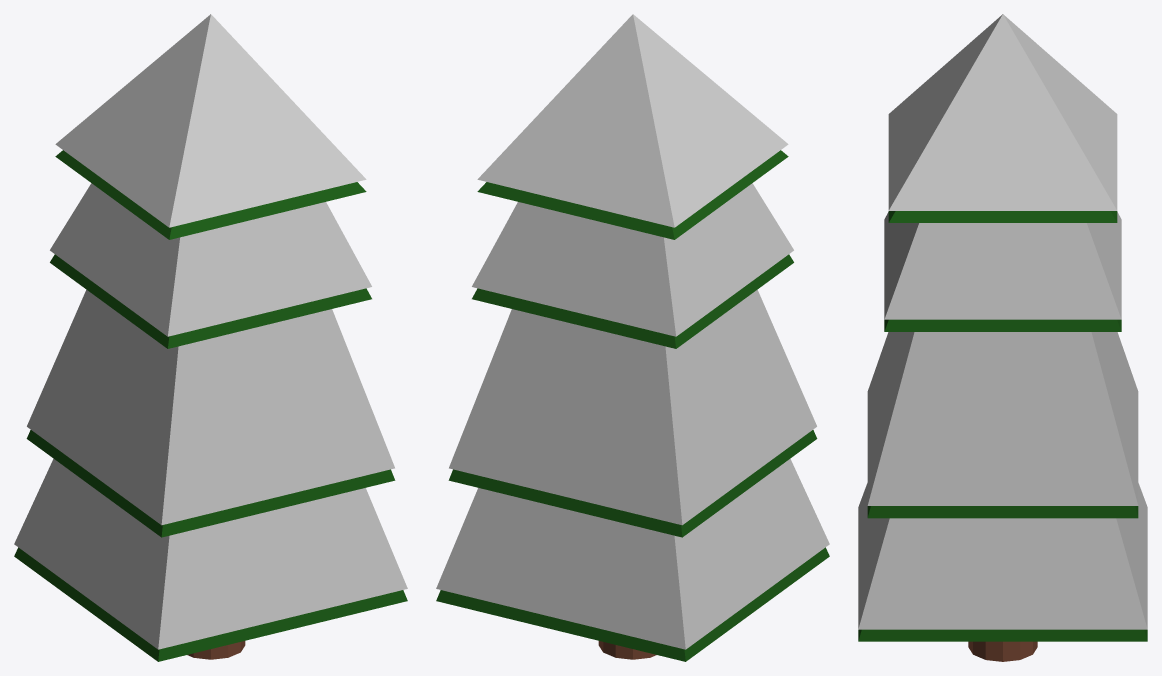
Rendered from Tree_17_winter_vc.fbx.
3 renders of one model, left to right at view 1: azimuth 30°, elevation 25°; view 2: azimuth 150°, elevation 25°; view 3: azimuth 270°, elevation 25°, orthographic.
Visible parts, largest first — view 1: Tree_17_winter_vc; view 2: Tree_17_winter_vc; view 3: Tree_17_winter_vc.
Part boxes in pixels (x1=…): Tree_17_winter_vc: x1=14, y1=14, x2=407, y2=661; Tree_17_winter_vc: x1=436, y1=14, x2=829, y2=661; Tree_17_winter_vc: x1=858, y1=14, x2=1147, y2=661.
Bounding box in the file's own units: 1.7 × 4.11 × 1.7.
